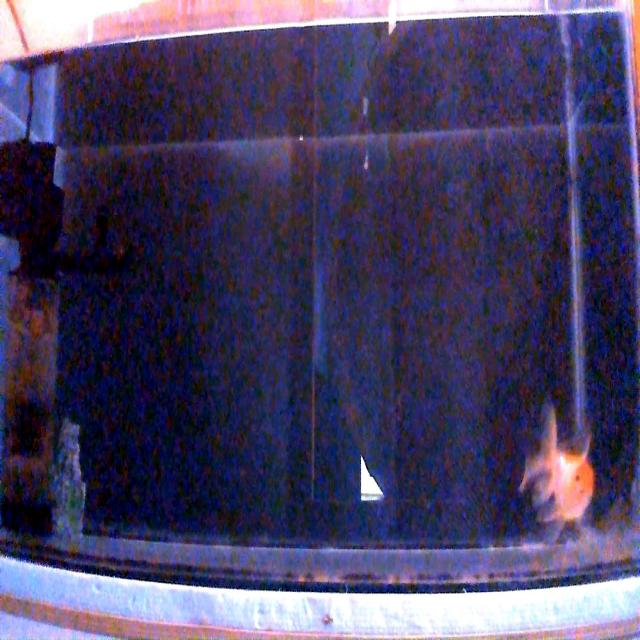fish: (520, 401, 596, 528)
